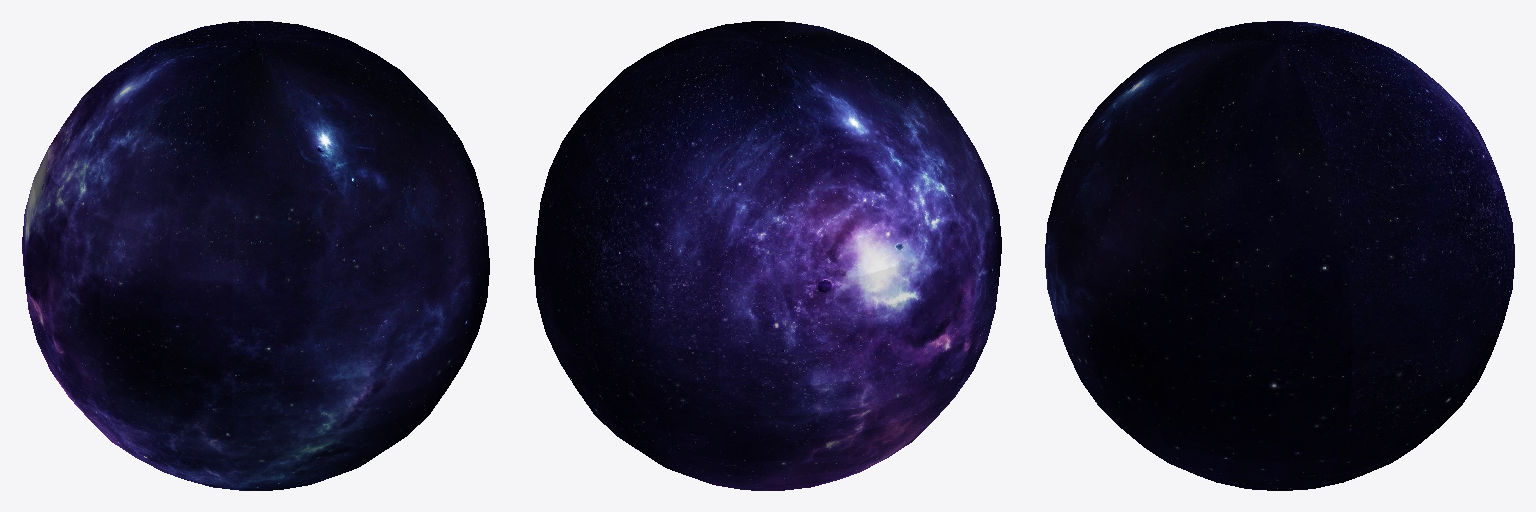
The picture shows the model from 3 angles: view 1: azimuth 30°, elevation 25°; view 2: azimuth 150°, elevation 25°; view 3: azimuth 270°, elevation 25°; orthographic projection.
Visible parts, largest first — view 1: pSphere1; view 2: pSphere1; view 3: pSphere1.
Part boxes in pixels (left/top/right/bottom): pSphere1: left=22, top=21, right=489, bottom=490; pSphere1: left=534, top=21, right=1001, bottom=490; pSphere1: left=1045, top=21, right=1514, bottom=490.
Bounding box in the file's own units: 2 × 2 × 2.
Materials: 1 (1 with a texture image).